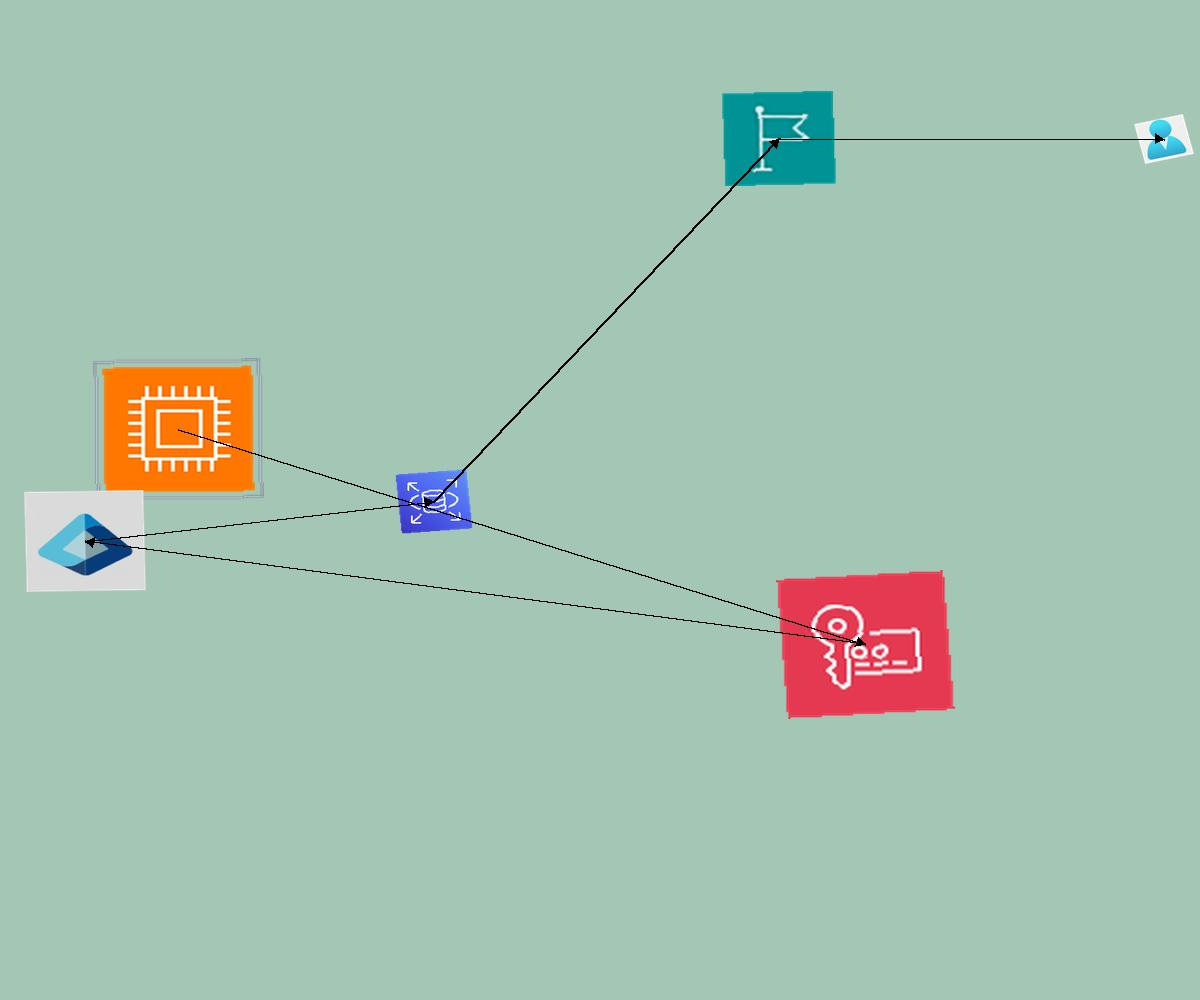AWS-Category_Compute: (93, 358, 264, 501)
AWS-Key-Management-Service: (776, 570, 955, 719)
AWS-RDS: (395, 469, 473, 534)
AWS-Region: (721, 90, 837, 187)
Azure_microsoft_entra: (24, 490, 146, 592)
Azure_users: (1134, 114, 1194, 164)
